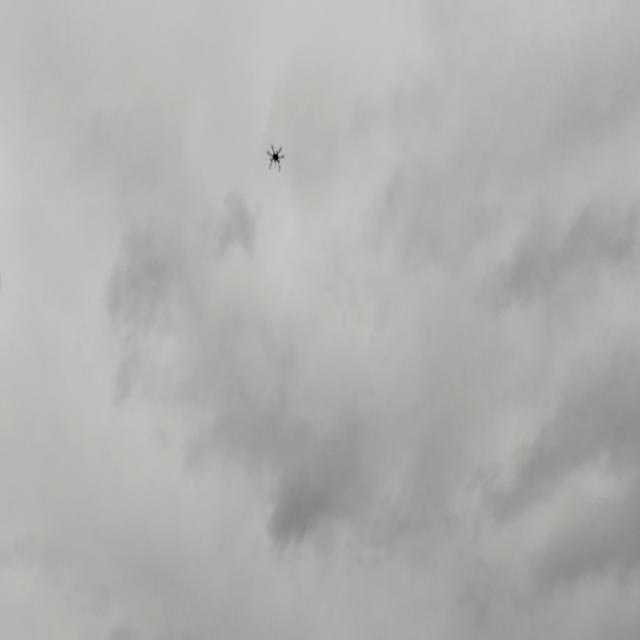drone: (265, 139, 285, 177)
